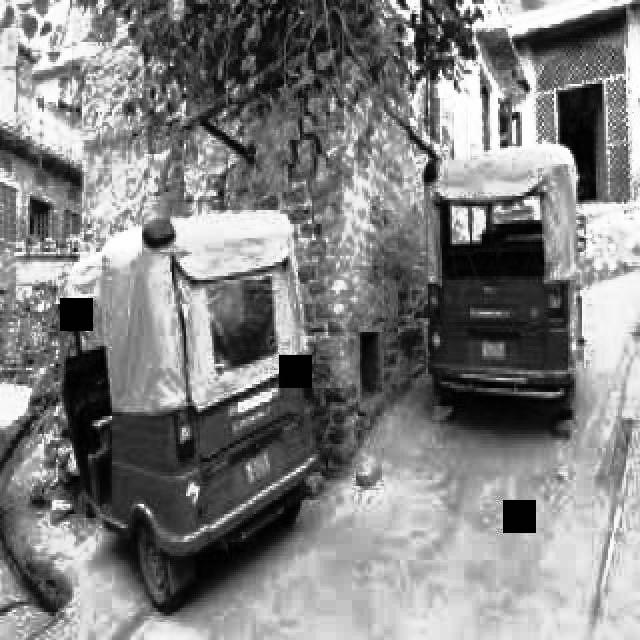Auto-Rickshaw: (24, 224, 350, 608), (404, 146, 588, 470)
